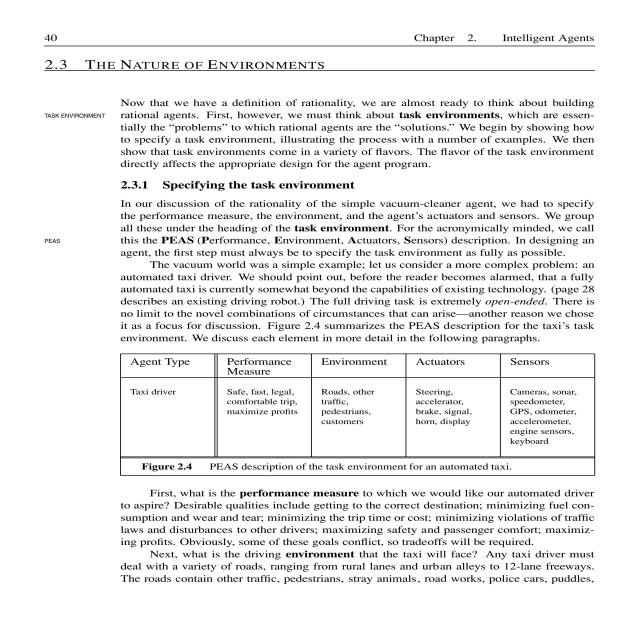diagram: (110, 345, 601, 485)
